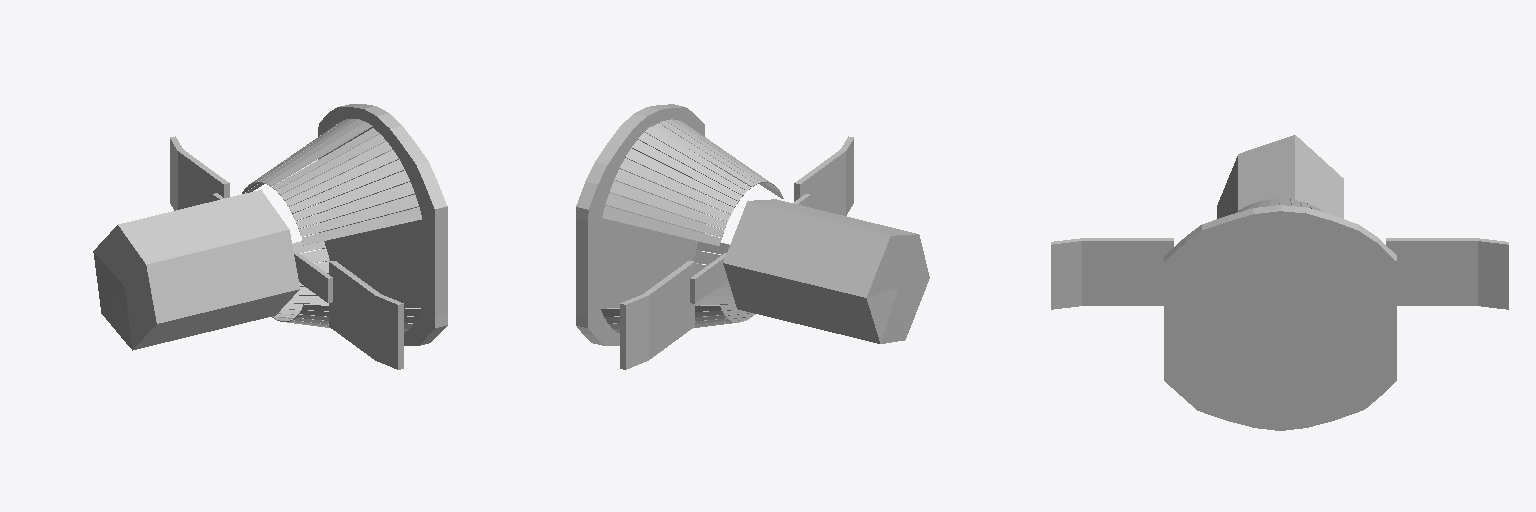
The model's file is parker_solar_probe_desplegados6.obj.
3 views of the same model, side by side, from view 1: azimuth 30°, elevation 25°; view 2: azimuth 150°, elevation 25°; view 3: azimuth 270°, elevation 25° (orthographic).
Parts seen in each view (by area): view 1: Bus, CoolingSystem, SolarShield, SolarPanel_R, SolarPanel_L, SolarPanelSupport_R; view 2: Bus, CoolingSystem, SolarShield, SolarPanel_L, SolarPanel_R, SolarPanelSupport_L; view 3: SolarShield, SolarPanel_R, SolarPanel_L, Bus.
Part boxes in pixels (x1,y1,x2,y2): Bus: (93, 190, 299, 350); CoolingSystem: (242, 119, 421, 332); SolarShield: (318, 104, 447, 345); SolarPanel_R: (329, 261, 403, 369); SolarPanel_L: (170, 136, 229, 210); SolarPanelSupport_R: (294, 252, 332, 302); Bus: (723, 199, 929, 343); CoolingSystem: (601, 119, 783, 333); SolarShield: (576, 104, 704, 345); SolarPanel_L: (620, 261, 694, 369); SolarPanel_R: (794, 136, 853, 215); SolarPanelSupport_L: (690, 253, 727, 303); SolarShield: (1164, 205, 1396, 430); SolarPanel_R: (1051, 238, 1173, 309); SolarPanel_L: (1386, 238, 1508, 309); Bus: (1217, 135, 1343, 218).
Size of the model in its own units: 2.96 by 2.33 by 4.38.